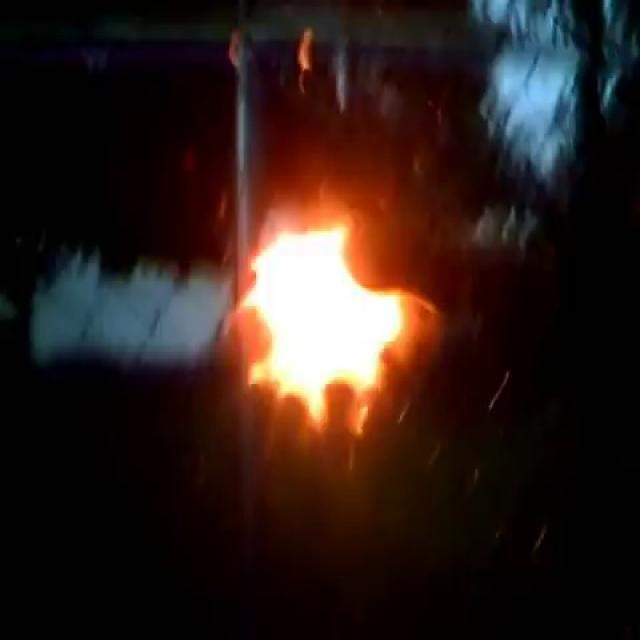Fire: (239, 200, 417, 422)
